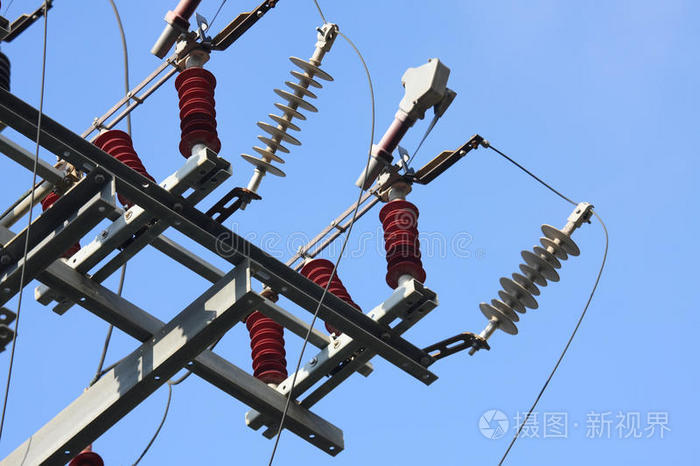insulator: (480, 223, 583, 337), (248, 54, 332, 174), (175, 67, 224, 154), (379, 201, 424, 284), (303, 258, 357, 323), (243, 307, 287, 383), (96, 130, 151, 181)
